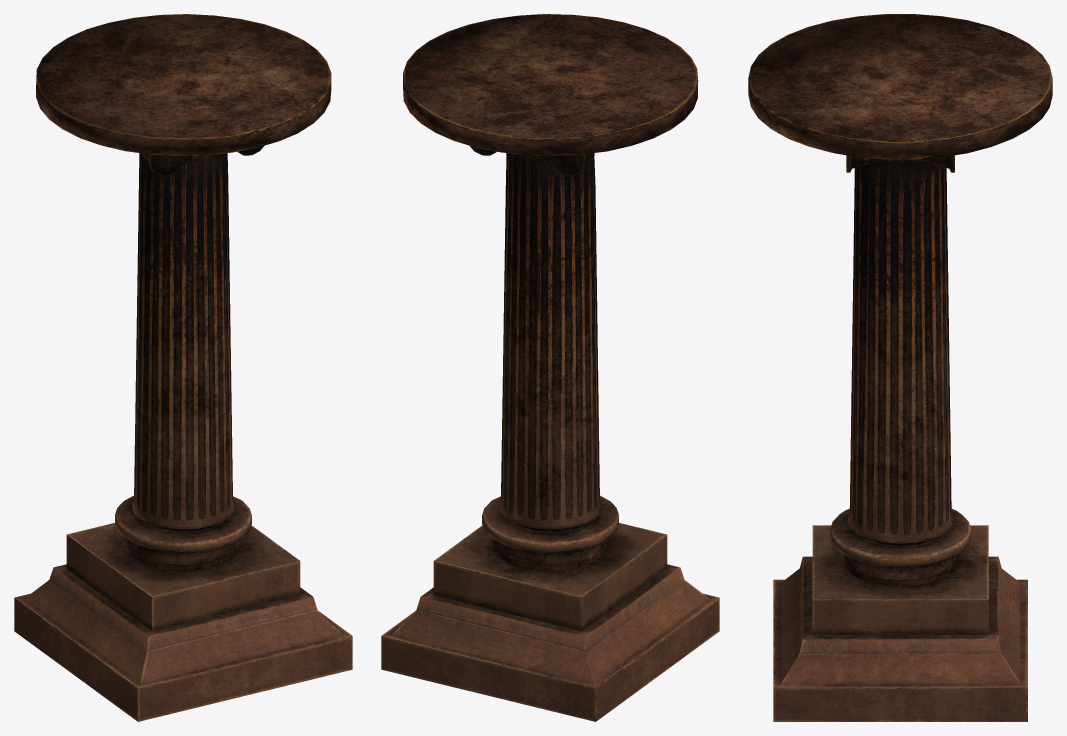
The model's file is pedestal.glb.
The picture shows the model from 3 angles, left to right: view 1: azimuth 30°, elevation 25°; view 2: azimuth 150°, elevation 25°; view 3: azimuth 270°, elevation 25°; orthographic projection. The views are drawn at different scales.
Parts seen in each view (by area): view 1: Wood Column Pedestal Stand.001; view 2: Wood Column Pedestal Stand.001; view 3: Wood Column Pedestal Stand.001.
Part boxes in pixels (bbox=[...]): Wood Column Pedestal Stand.001: bbox=[14, 14, 352, 721]; Wood Column Pedestal Stand.001: bbox=[381, 14, 719, 721]; Wood Column Pedestal Stand.001: bbox=[748, 14, 1052, 721].
Size of the model in its own units: 0.4324 by 0.9297 by 0.4341.
1 material, 1 textured.
